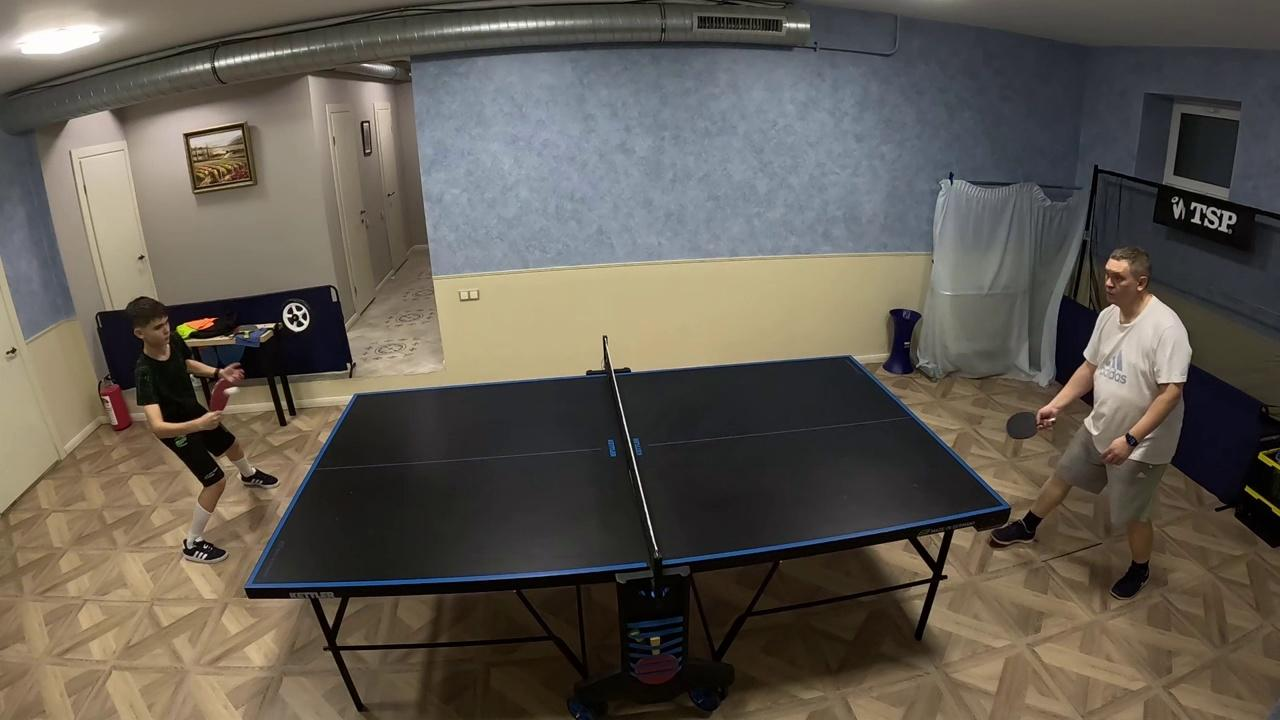Ball: (218, 383, 240, 408)
Net: (603, 335, 665, 599)
Player1: (124, 296, 255, 562)
Player2: (1015, 247, 1191, 575)
Table: (617, 356, 1000, 570), (287, 372, 644, 580)
